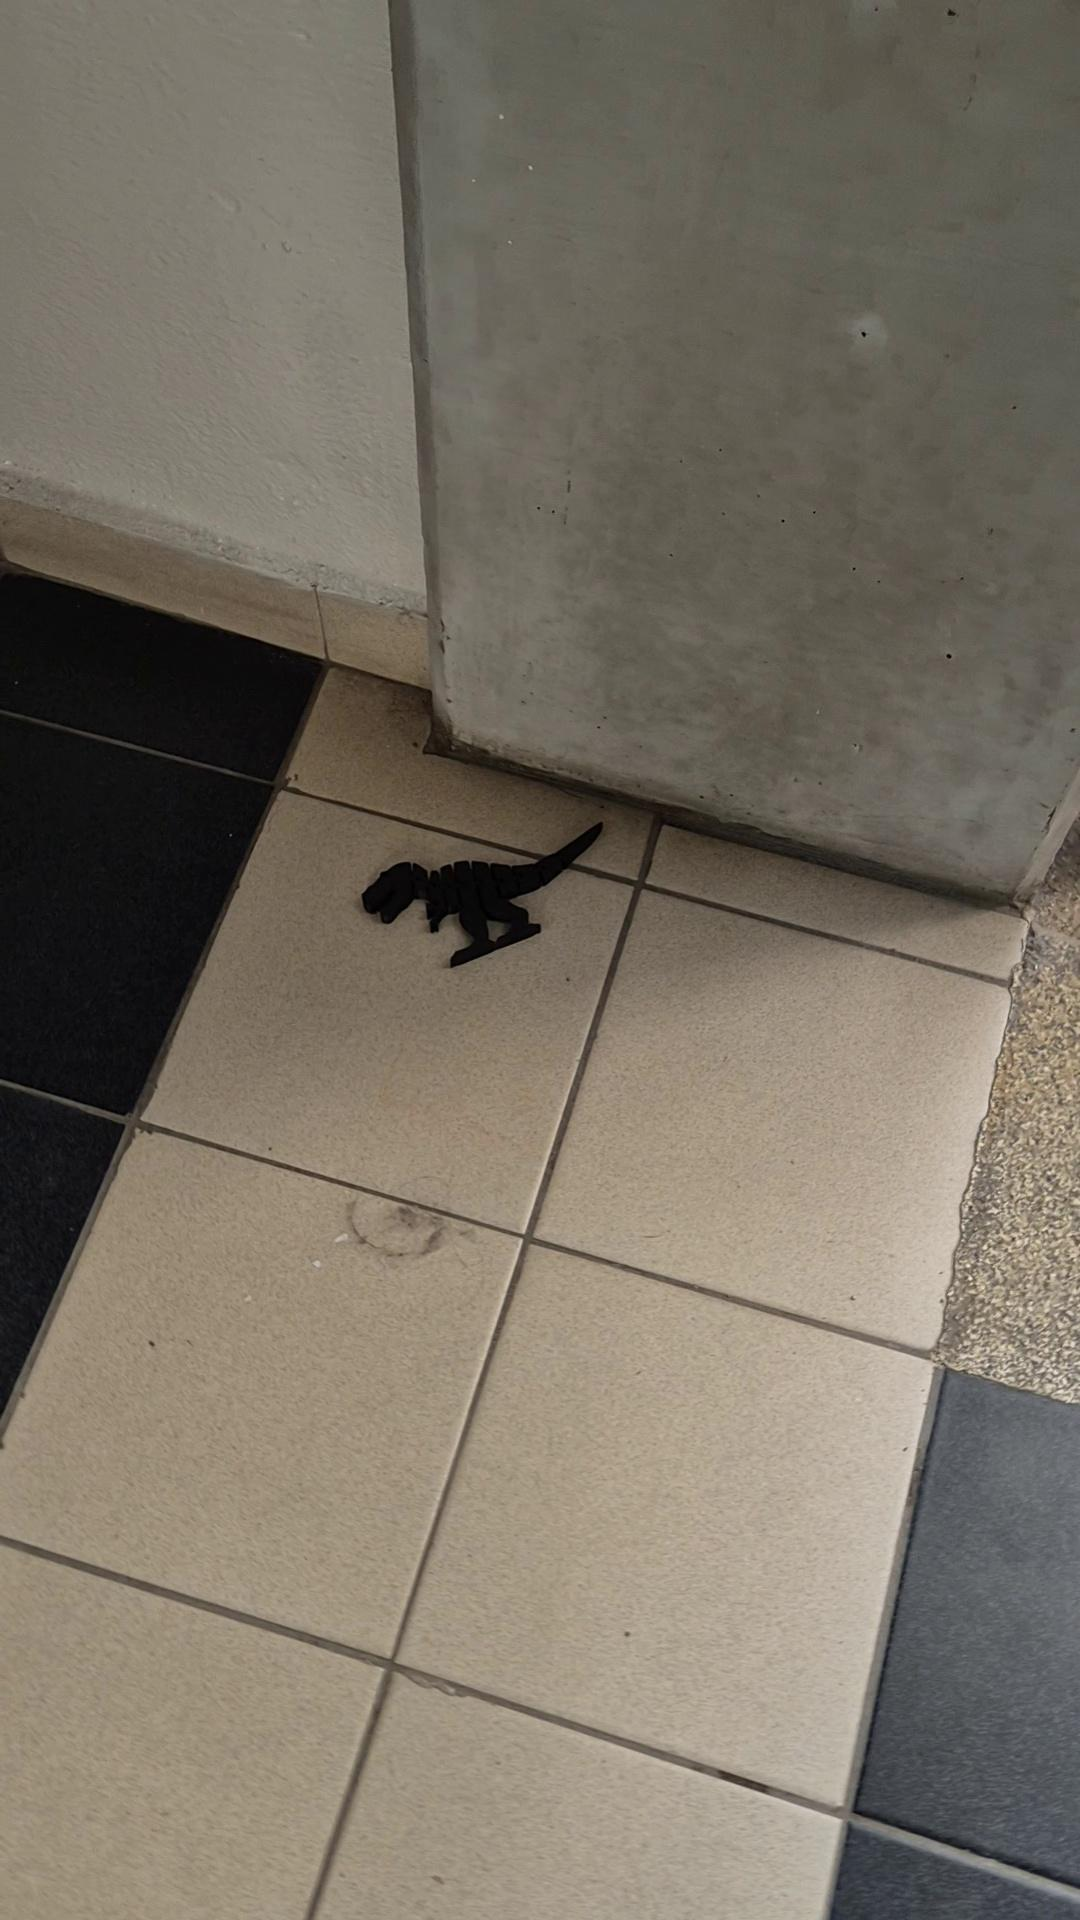dinosaur: (360, 820, 605, 969)
